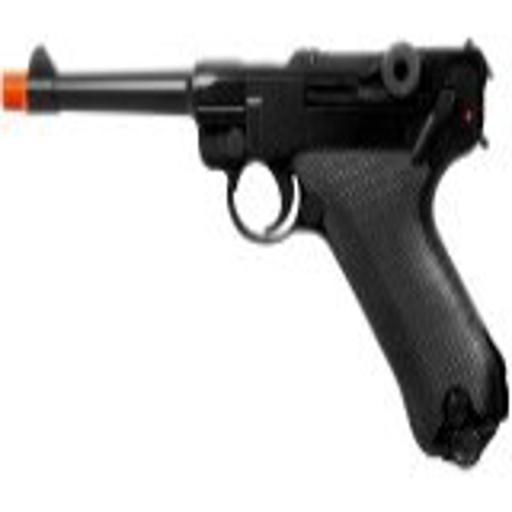Handgun: (2, 41, 511, 468)
